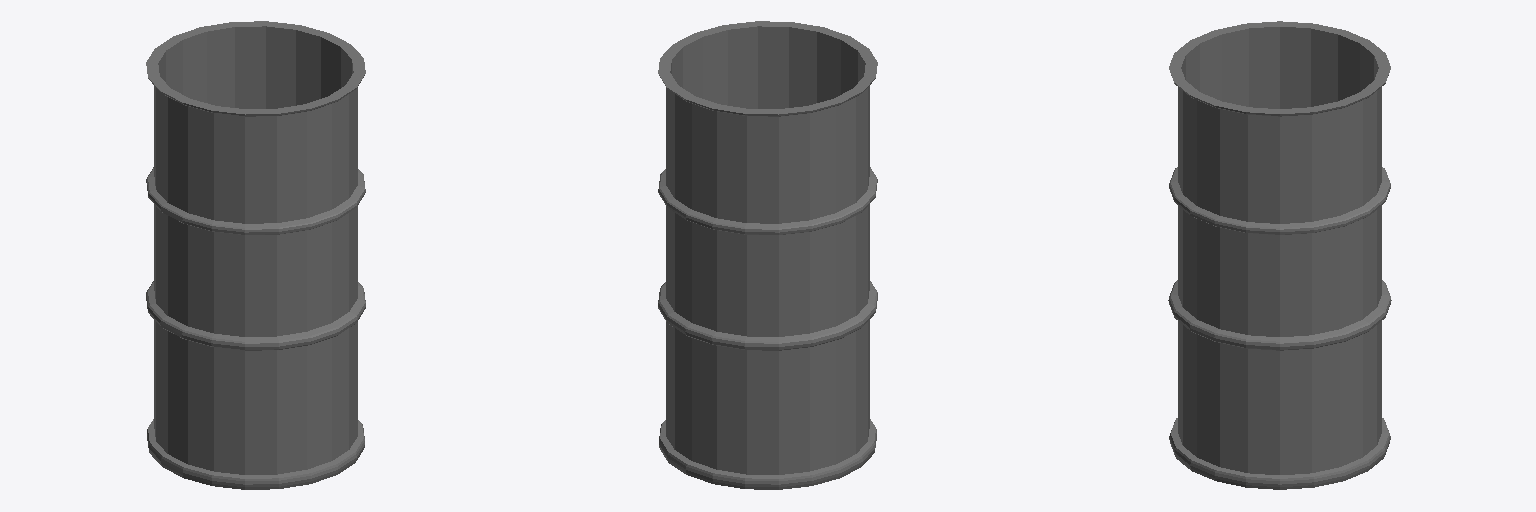
File: Barrel_Open.obj
3 renders of one model, left to right at view 1: azimuth 30°, elevation 25°; view 2: azimuth 150°, elevation 25°; view 3: azimuth 270°, elevation 25°, orthographic.
Parts seen in each view (by area): view 1: OilBarrel_Open OilBarrel; view 2: OilBarrel_Open OilBarrel; view 3: OilBarrel_Open OilBarrel.
Boxes of the visible parts, x1=… form: OilBarrel_Open OilBarrel: x1=146, y1=21, x2=365, y2=489; OilBarrel_Open OilBarrel: x1=658, y1=21, x2=877, y2=489; OilBarrel_Open OilBarrel: x1=1168, y1=21, x2=1391, y2=489.
Size of the model in its own units: 8.69 by 16.31 by 8.77.